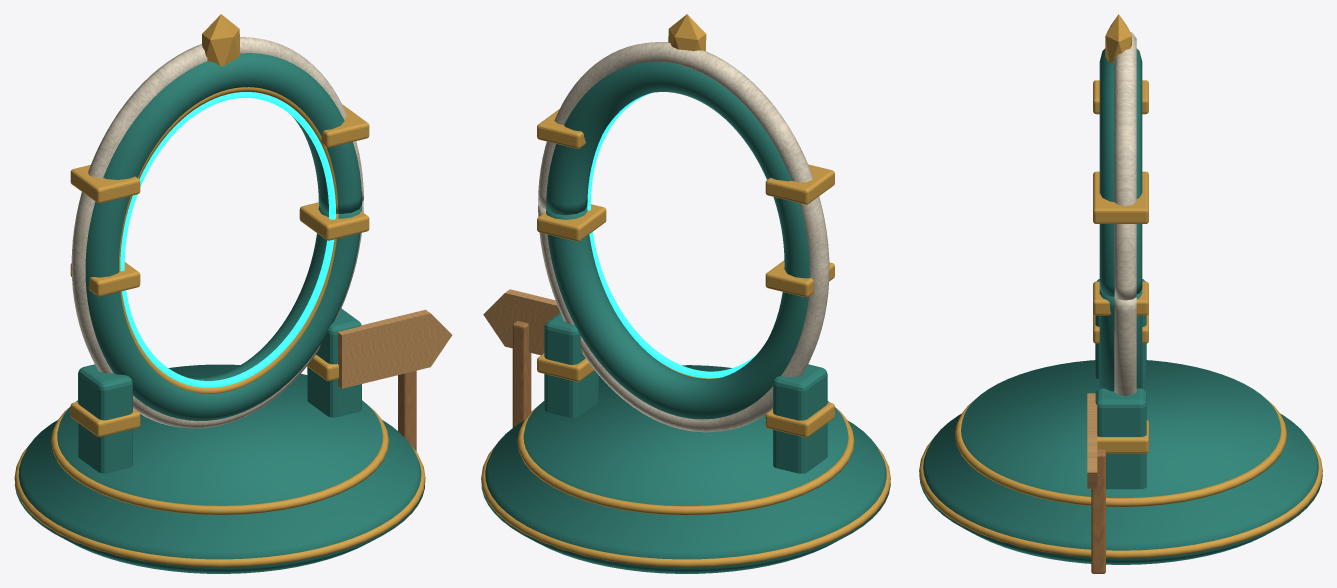
The model's file is exit-portal.glb.
3 views of the same model, side by side, from view 1: azimuth 30°, elevation 25°; view 2: azimuth 150°, elevation 25°; view 3: azimuth 270°, elevation 25° (orthographic).
Visible parts, largest first — view 1: exit_portal; view 2: exit_portal; view 3: exit_portal.
Part boxes in pixels (bbox=[...]): exit_portal: bbox=[14, 14, 452, 573]; exit_portal: bbox=[481, 14, 890, 573]; exit_portal: bbox=[919, 14, 1322, 573].
Bounding box in the file's own units: 1.99 × 2.33 × 1.8.
6 materials, 3 textured.
